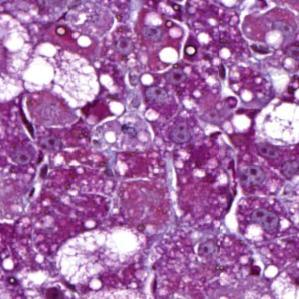ballooning: (16, 38, 102, 110), (53, 222, 145, 287), (254, 94, 296, 151)
